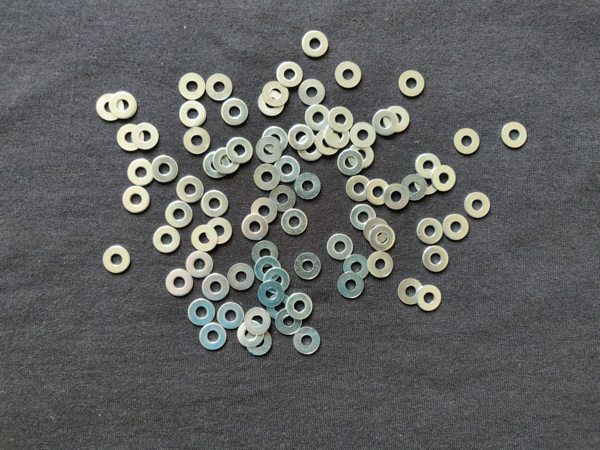circle: (500, 120, 531, 150), (294, 326, 324, 357), (102, 245, 131, 277), (182, 127, 212, 157), (176, 100, 207, 129), (278, 209, 309, 238), (397, 69, 426, 99), (164, 269, 194, 298), (186, 251, 215, 281), (96, 93, 124, 124), (301, 30, 330, 59), (221, 98, 250, 127), (201, 272, 230, 301), (164, 201, 193, 230), (125, 159, 154, 188), (276, 59, 304, 89), (443, 213, 471, 243), (420, 246, 450, 274), (205, 216, 233, 246), (201, 189, 231, 217), (396, 276, 423, 307), (384, 103, 410, 135), (269, 185, 297, 214), (241, 214, 269, 243), (294, 252, 322, 281), (286, 292, 314, 321), (267, 292, 296, 320), (153, 226, 181, 255), (109, 91, 137, 120), (245, 329, 275, 356), (218, 301, 245, 331), (189, 297, 215, 328), (178, 72, 206, 100), (415, 152, 443, 180), (256, 136, 284, 164), (253, 164, 281, 192), (342, 254, 370, 282), (227, 265, 255, 293), (191, 225, 219, 253), (176, 175, 204, 203), (414, 218, 443, 245), (338, 148, 365, 177), (294, 172, 321, 201), (325, 234, 354, 261), (250, 239, 279, 266), (198, 323, 227, 350), (152, 154, 179, 183), (368, 250, 394, 280), (372, 109, 399, 137), (299, 78, 326, 106), (257, 91, 285, 118), (464, 191, 492, 218), (413, 168, 440, 196), (401, 174, 429, 201), (345, 175, 373, 202), (349, 122, 377, 149), (261, 126, 288, 154), (226, 136, 254, 163), (122, 186, 150, 213), (133, 121, 160, 149), (117, 124, 144, 152), (336, 61, 362, 90), (261, 81, 290, 107), (416, 284, 442, 313), (274, 155, 300, 184), (236, 321, 265, 347), (203, 150, 229, 179), (214, 146, 239, 176), (305, 104, 332, 131), (349, 204, 376, 231), (338, 273, 365, 300), (454, 128, 482, 154), (205, 76, 233, 102), (329, 106, 355, 134), (369, 226, 397, 252), (245, 307, 271, 335), (383, 184, 410, 210), (288, 124, 314, 151), (251, 198, 277, 225), (276, 309, 302, 336), (257, 282, 284, 308), (254, 256, 281, 282), (365, 217, 390, 245), (297, 136, 324, 161), (367, 178, 390, 207), (348, 144, 374, 169), (325, 124, 350, 150), (264, 269, 291, 293), (433, 166, 456, 193), (316, 129, 338, 156)
